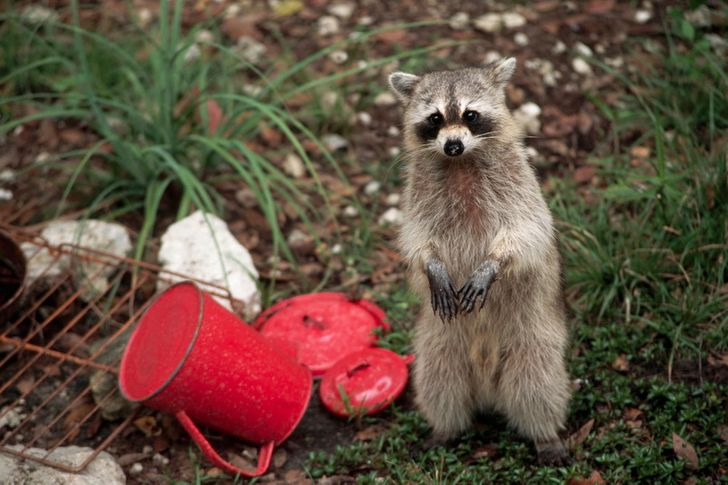raccoon: (388, 55, 578, 431)
